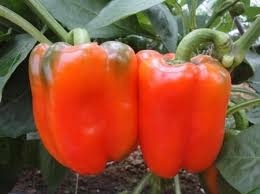fruit: (26, 40, 139, 173), (135, 49, 231, 178)
pedicle: (163, 57, 199, 66)
